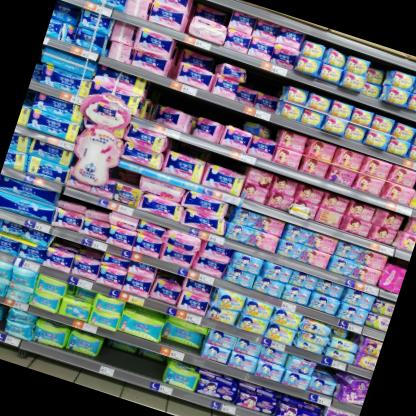empty_space: (96, 343, 165, 381)
